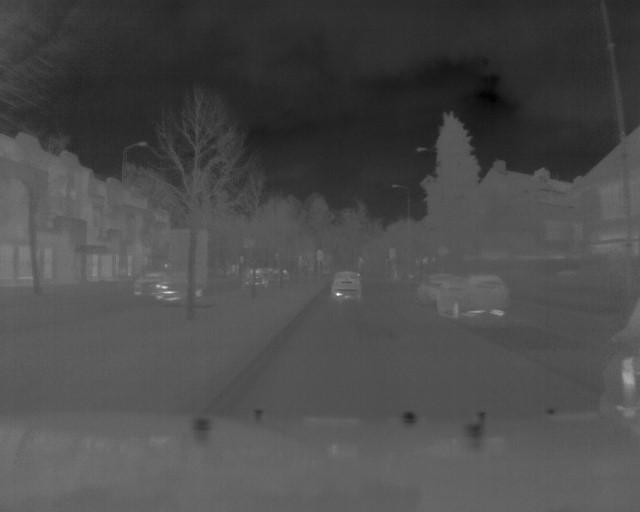car: (437, 270, 512, 321), (327, 269, 366, 305)
